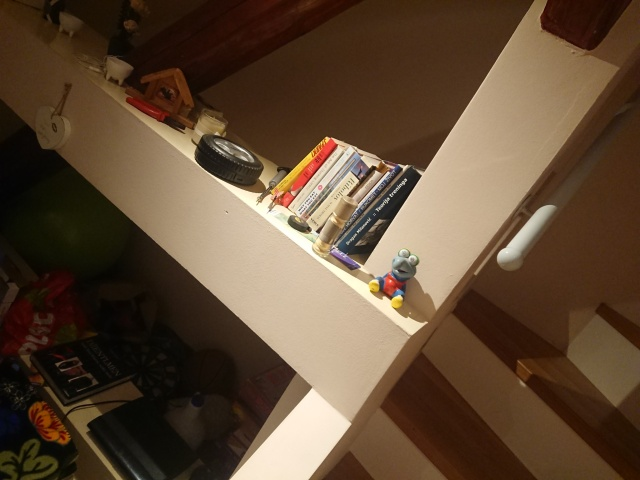Kotanyi Garlic Granules 70g: (311, 194, 360, 258)
